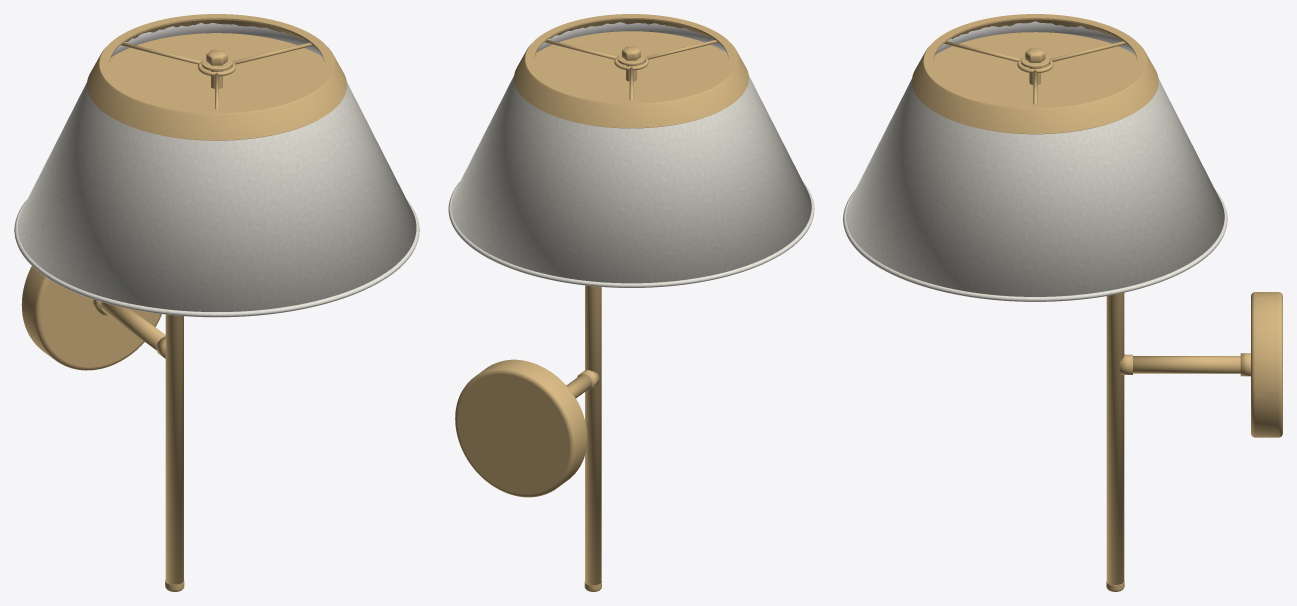
3 renders of one model, left to right at view 1: azimuth 30°, elevation 25°; view 2: azimuth 150°, elevation 25°; view 3: azimuth 270°, elevation 25°, orthographic. The views are drawn at different scales.
Visible parts, largest first — view 1: fabric, metal, liner; view 2: fabric, metal, liner; view 3: fabric, metal, liner.
Part boxes in pixels (box(x1,y1,x2,y2)): fabric: box(14, 82, 419, 317); metal: box(21, 14, 346, 591); liner: box(111, 22, 322, 56); fabric: box(448, 76, 814, 287); metal: box(455, 14, 748, 591); liner: box(536, 22, 726, 52); fabric: box(843, 79, 1227, 301); metal: box(911, 14, 1282, 591); liner: box(935, 21, 1135, 54).
Size of the model in its own units: 0.264 by 0.408 by 0.302.
5 materials, 1 textured.
